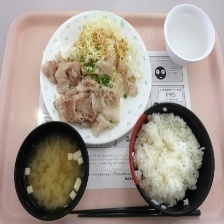rice: (130, 106, 211, 211)
